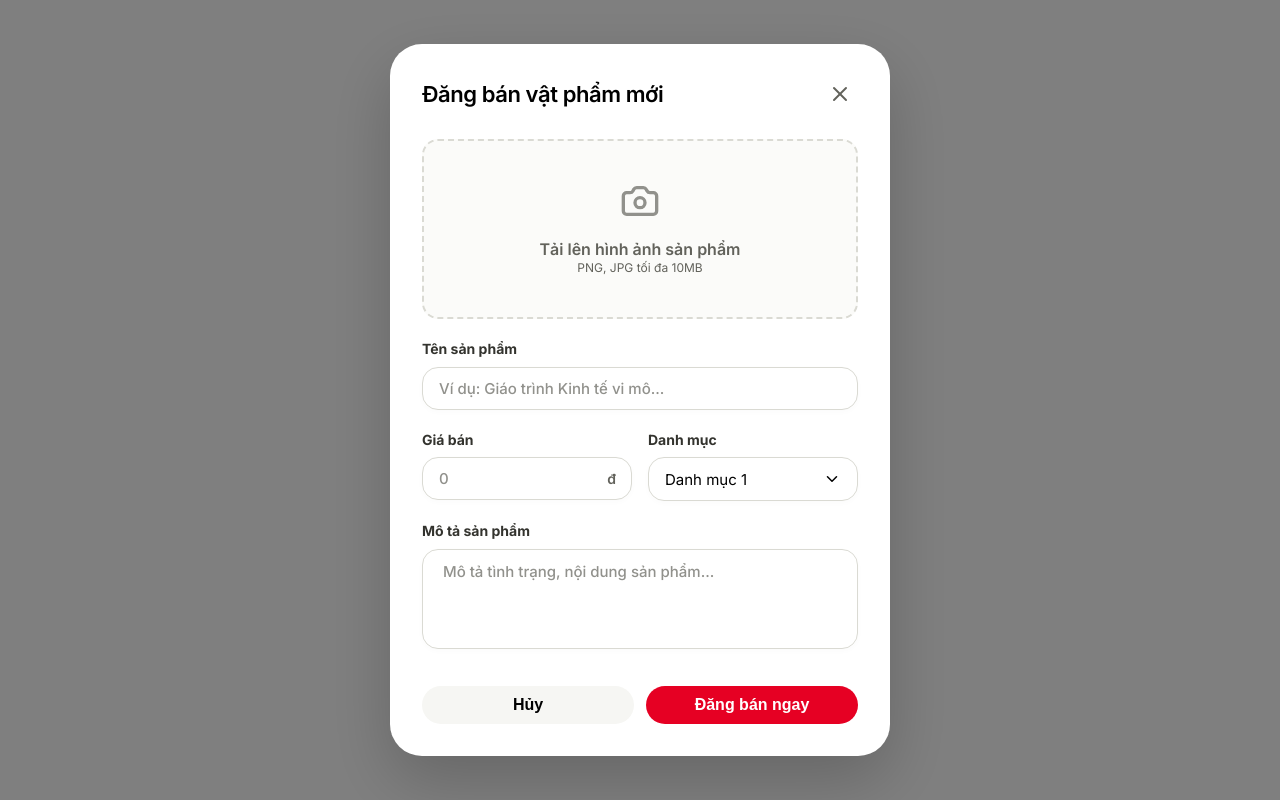
AddProductModal › handlePriceChange_strips_non_digits
Expected: the heading "Đăng bán vật phẩm mới" is shown, [422,81,663,109]
Type "12a34b" into the field with placeholder "0" at {"x": 527, "y": 479}, box [422,457,632,500]
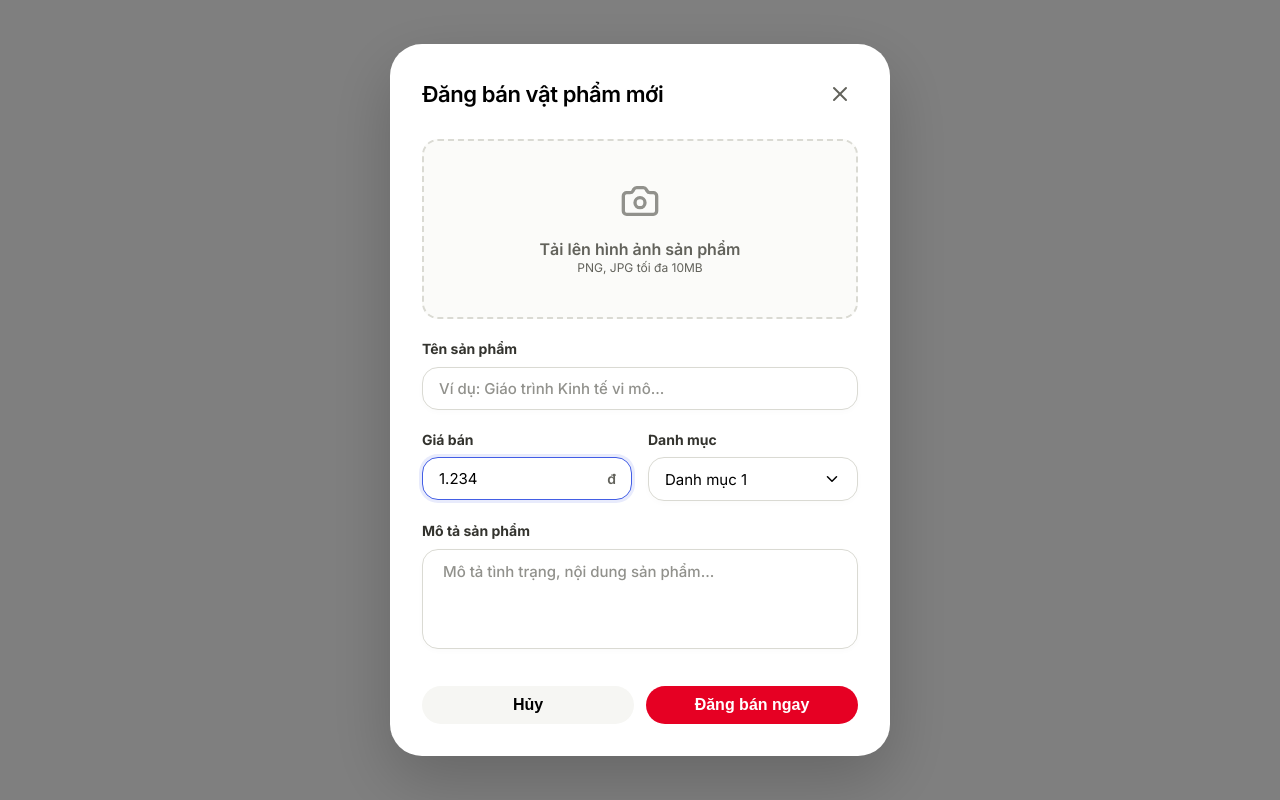
Expected: the field with placeholder "0" holds "1.234", [422,457,632,500]
